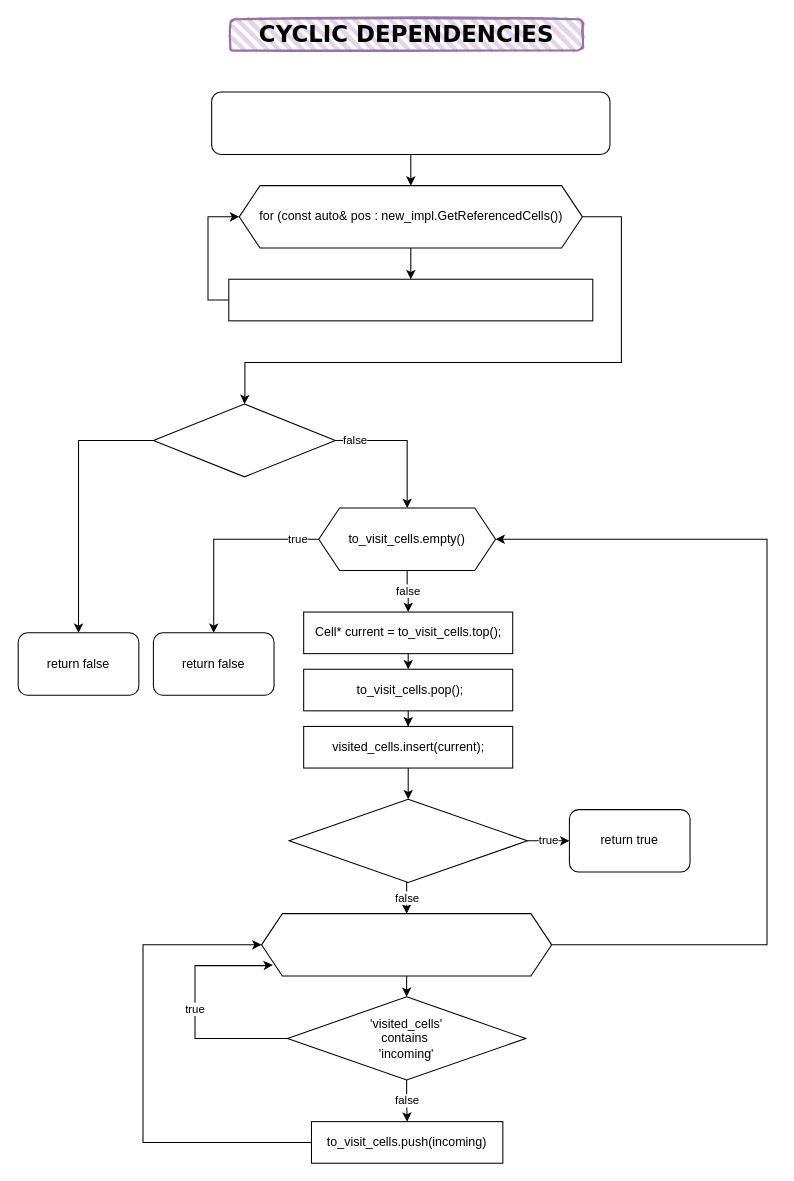
This 794x1181 diagram has some shape labels left out. Here are the shapes that lost their labels. From the top down, the centre of each, then its label:
At point (410, 122): "bool HasCircularDependency(const Impl& impl) const".
At point (410, 299): "referenced_cells.insert(sheet_.GetConcreteCell(pos));".
At point (243, 440): "referenced_cells.empty()".
At point (407, 840): "'referenced_cells' contains 'current'".
At point (406, 944): "for (const Cell* incoming : current->l_nodes_)".
